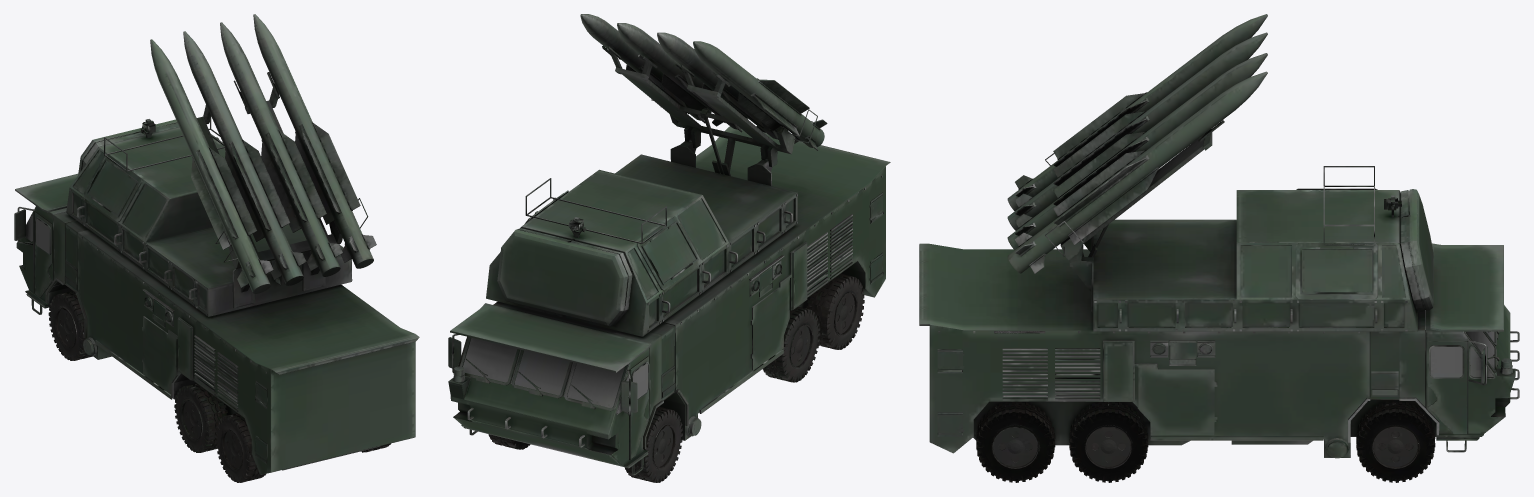
File: buk.glb
3 views of the same model, side by side, from view 1: azimuth 30°, elevation 25°; view 2: azimuth 150°, elevation 25°; view 3: azimuth 270°, elevation 25° (orthographic). The views are drawn at different scales.
Visible parts, largest first — view 1: Object_2; view 2: Object_2; view 3: Object_2.
Boxes of the visible parts, left/top/right/bottom form: Object_2: left=14, top=14, right=419, bottom=482; Object_2: left=448, top=14, right=890, bottom=482; Object_2: left=919, top=14, right=1519, bottom=482.
Size of the model in its own units: 4.44 by 8.63 by 11.62.
Materials: 1 (1 with a texture image).
